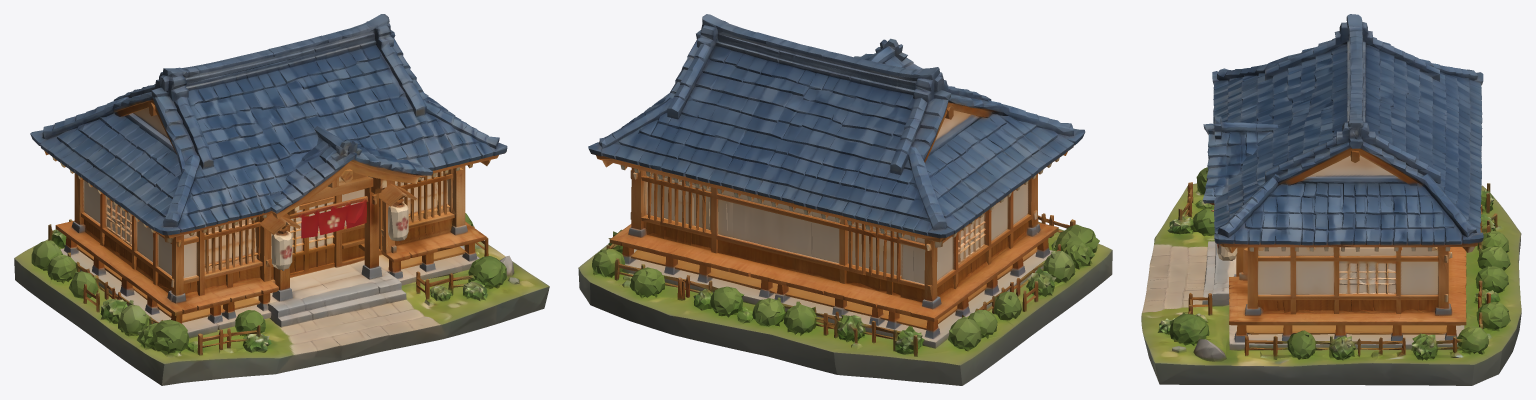
File: source.glb
The picture shows the model from 3 angles, left to right: view 1: azimuth 30°, elevation 25°; view 2: azimuth 150°, elevation 25°; view 3: azimuth 270°, elevation 25°; orthographic projection. The views are drawn at different scales.
Parts seen in each view (by area): view 1: model; view 2: model; view 3: model.
Part boxes in pixels (<box>): model: <box>14,14,549,385</box>; model: <box>578,14,1112,385</box>; model: <box>1141,14,1521,385</box>.
Bounding box in the file's own units: 1.9 × 1.15 × 1.68.
1 material, 1 textured.
